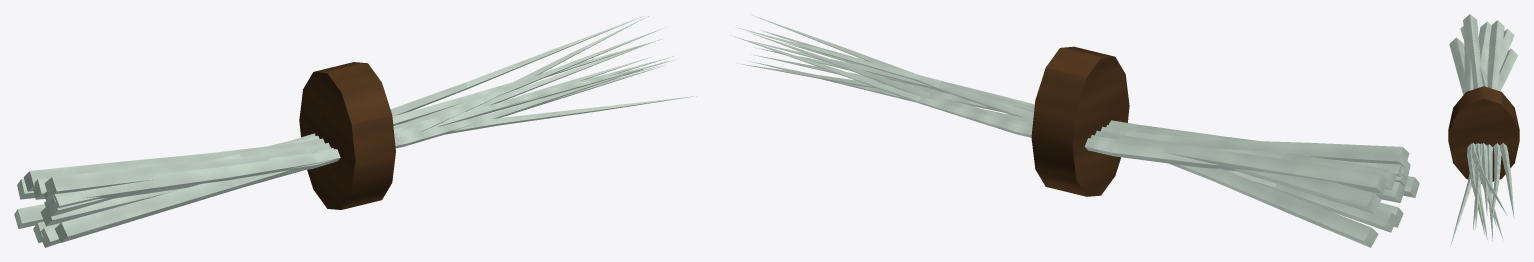
Rendered from underworld-resource-pale-fibre.glb.
The picture shows the model from 3 angles, left to right: view 1: azimuth 30°, elevation 25°; view 2: azimuth 150°, elevation 25°; view 3: azimuth 270°, elevation 25°; orthographic projection. The views are drawn at different scales.
Visible parts, largest first — view 1: fibres, tie; view 2: fibres, tie; view 3: fibres, tie.
Boxes of the visible parts, left/top/right/bottom form: fibres: left=14, top=15, right=696, bottom=247; tie: left=299, top=62, right=395, bottom=209; fibres: left=730, top=15, right=1419, bottom=247; tie: left=1031, top=46, right=1129, bottom=196; fibres: left=1449, top=14, right=1517, bottom=245; tie: left=1448, top=86, right=1519, bottom=183.
Bounding box in the file's own units: 0.7822 × 0.16 × 0.12.
Materials: 2 (2 with a texture image).
